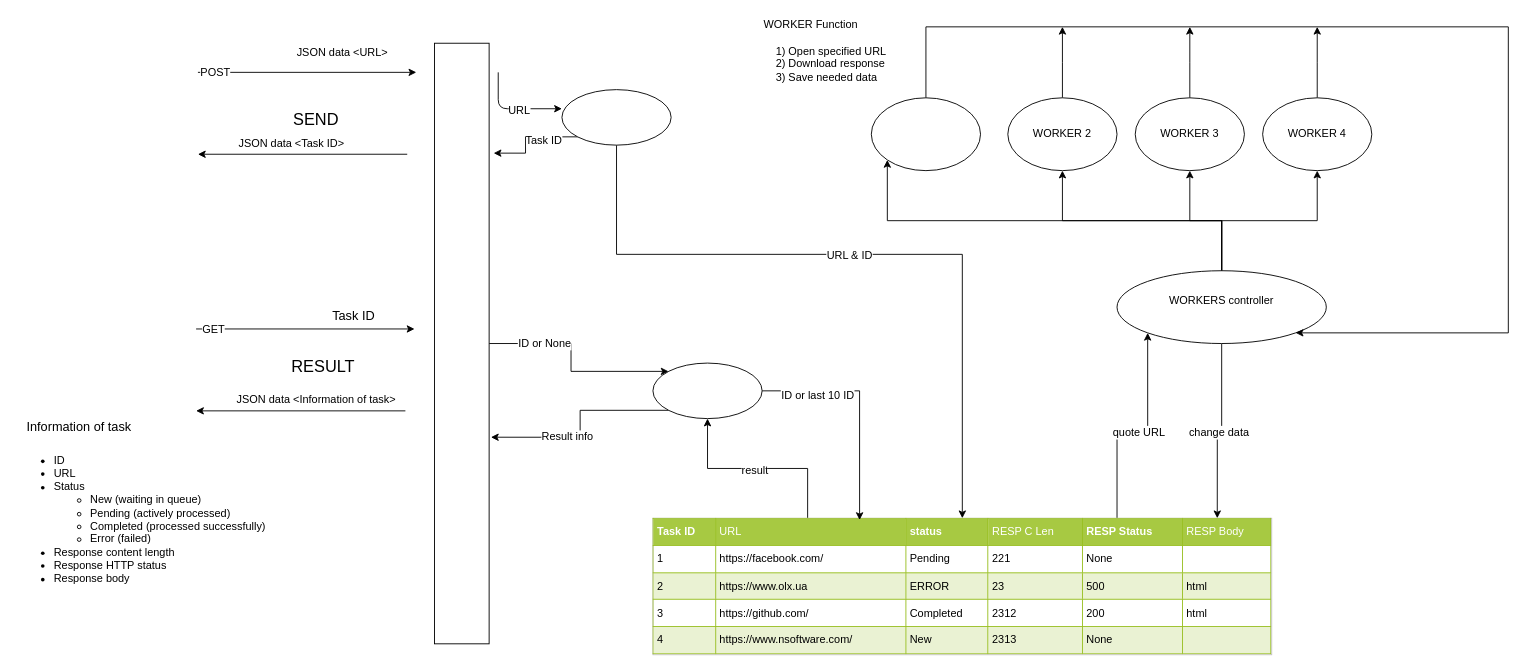
The diagram is 1532 pixels wide and 671 high, and some of its shapes have lost their labels. The shapes that lost their labels are listed below. From the top down, each one's box as (x1, y1, x2, y2) in pixels, then its label:
(561, 89, 671, 145): queue controller
(870, 97, 981, 171): WORKER 1
(652, 362, 762, 419): RESULT controller
